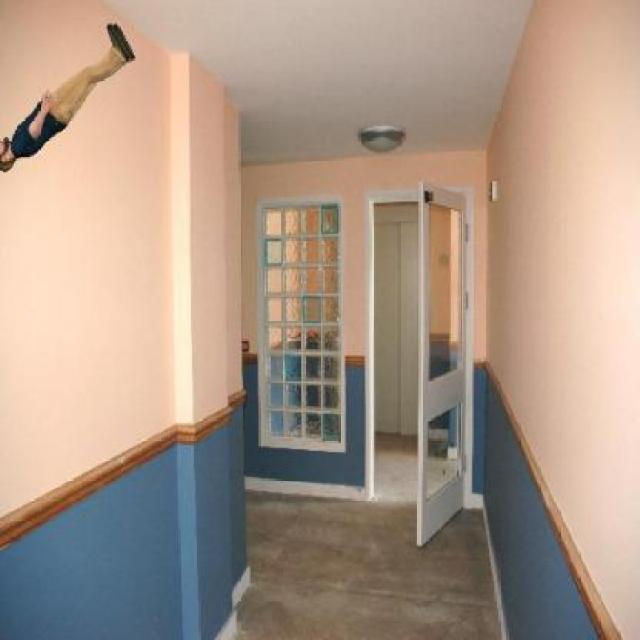Person: (0, 21, 137, 174)
